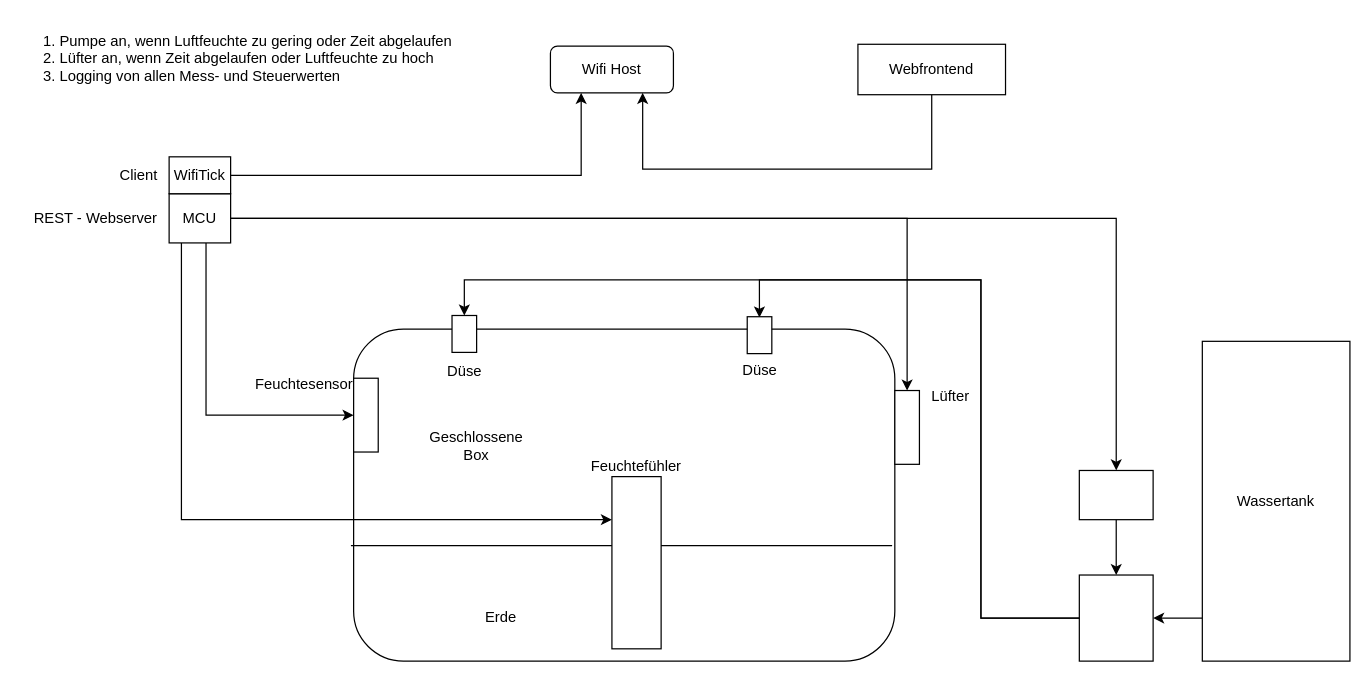
This 1371x683 diagram has some shape labels left out. The shapes that lost their labels are listed below. From the top down, each one's centre as x and y in pixels, then its label:
the point at 1115,494: Power Relais
the point at 1115,617: Pumpe
